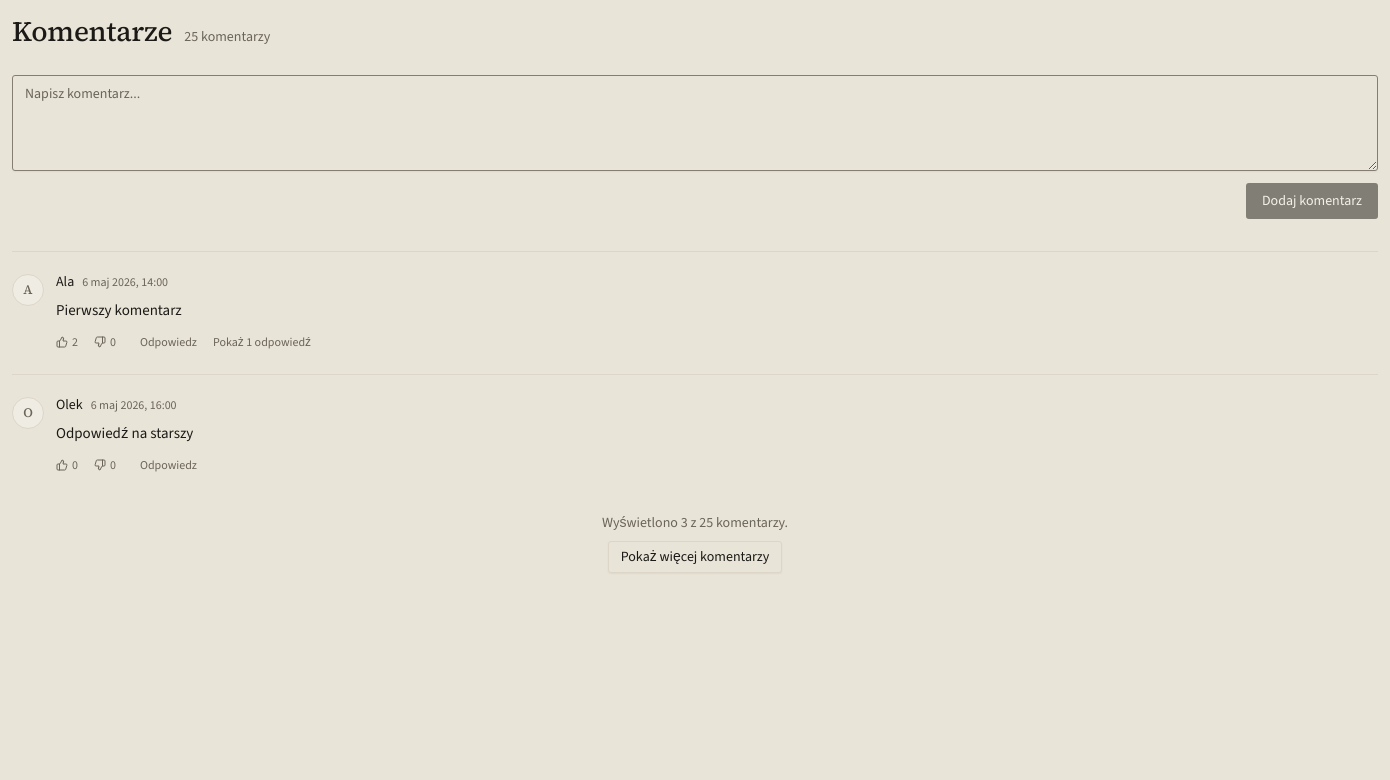
Test: ArticleComments › loads the next page and attaches replies to parents that arrive later
Expected: the text "25 komentarzy" is shown, x1=184 y1=27 x2=270 y2=47
Expected: the text "Wyświetlono 3 z 25 komentarzy." is shown, x1=602 y1=513 x2=788 y2=533
Click the button "Pokaż więcej komentarzy": (695, 557) x1=608 y1=541 x2=782 y2=573
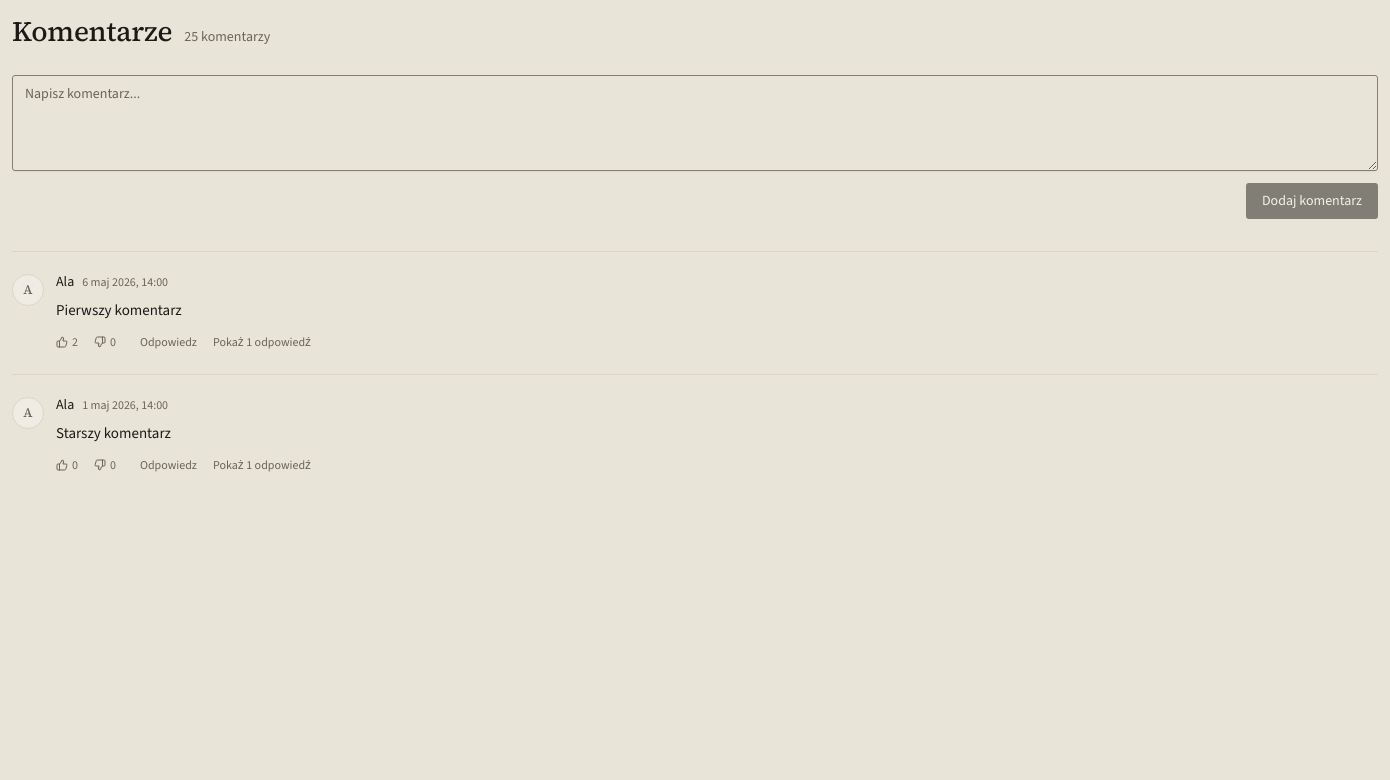
Now the text "Starszy komentarz" is shown, box x1=56 y1=423 x2=171 y2=443
Now the text "Odpowiedź na starszy" is gone
Now the button "Pokaż więcej komentarzy" is gone
